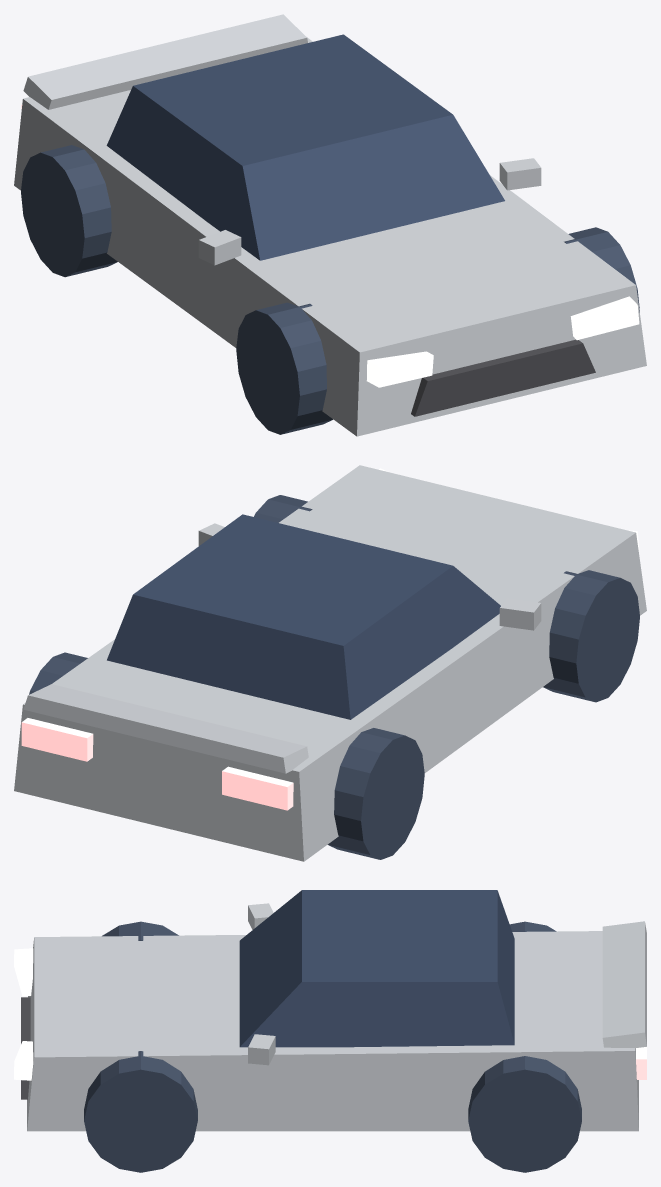
The model's file is roadster.gltf.
3 views of the same model, one above another, from view 1: azimuth 30°, elevation 25°; view 2: azimuth 150°, elevation 25°; view 3: azimuth 270°, elevation 25° (orthographic). The views are drawn at different scales.
Parts seen in each view (by area): view 1: chassis, cabin, spoiler, wheel_0, wheel_2, grille, headlight_1, headlight_0, wheel_1, mirror_0, mirror_1; view 2: chassis, cabin, wheel_0, wheel_2, spoiler, taillight_1, taillight_0, mirror_0, wheel_3, wheel_1; view 3: chassis, cabin, wheel_1, wheel_3, spoiler, wheel_0, headlight_0, mirror_1, headlight_1, grille, mirror_0.
Boxes of the visible parts, x1,y1,x2,y2 form: chassis: [14, 37, 646, 436]; cabin: [106, 34, 504, 260]; spoiler: [23, 14, 307, 109]; wheel_0: [236, 302, 332, 434]; wheel_2: [21, 145, 117, 277]; grille: [411, 339, 595, 416]; headlight_1: [570, 296, 639, 340]; headlight_0: [366, 351, 433, 387]; wheel_1: [564, 227, 639, 312]; mirror_0: [198, 230, 241, 265]; mirror_1: [499, 158, 541, 190]; chassis: [14, 465, 646, 861]; cabin: [107, 514, 500, 719]; wheel_0: [543, 570, 639, 702]; wheel_2: [327, 728, 424, 859]; spoiler: [23, 684, 308, 773]; taillight_1: [21, 718, 93, 761]; taillight_0: [222, 766, 293, 810]; mirror_0: [499, 598, 541, 630]; wheel_3: [29, 652, 87, 694]; wheel_1: [254, 495, 312, 522]; chassis: [27, 931, 638, 1131]; cabin: [239, 890, 514, 1047]; wheel_1: [84, 1051, 197, 1172]; wheel_3: [468, 1056, 581, 1172]; spoiler: [602, 921, 646, 1048]; wheel_0: [102, 921, 178, 940]; headlight_0: [14, 948, 33, 996]; mirror_1: [248, 1034, 275, 1065]; headlight_1: [14, 1041, 33, 1080]; grille: [21, 997, 30, 1099]; mirror_0: [248, 903, 273, 929].
Bounding box in the file's own units: 2.46 × 1.26 × 4.45.
